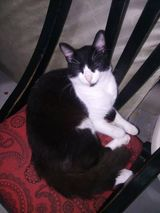cat: (28, 27, 144, 201)
